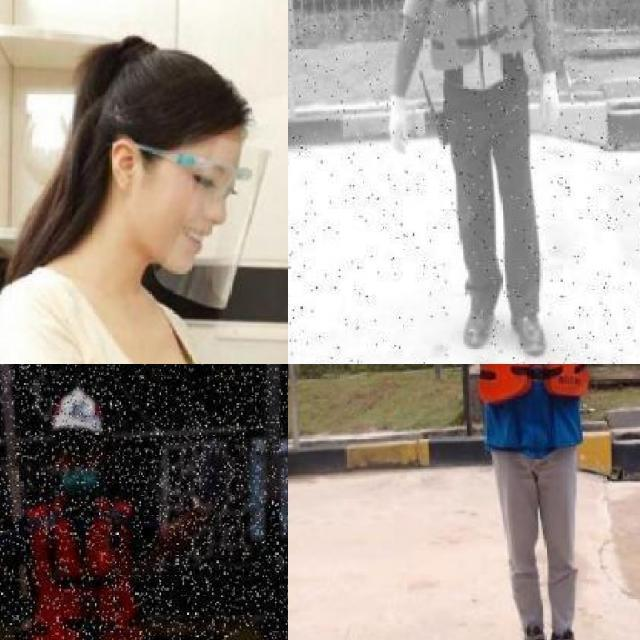apron: (186, 438, 228, 518), (385, 91, 411, 159), (538, 67, 561, 136)
